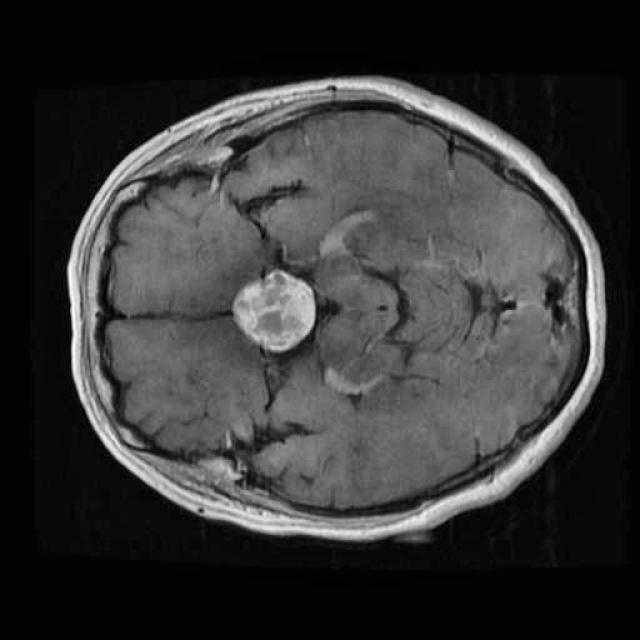Tumor: (220, 260, 326, 358)
